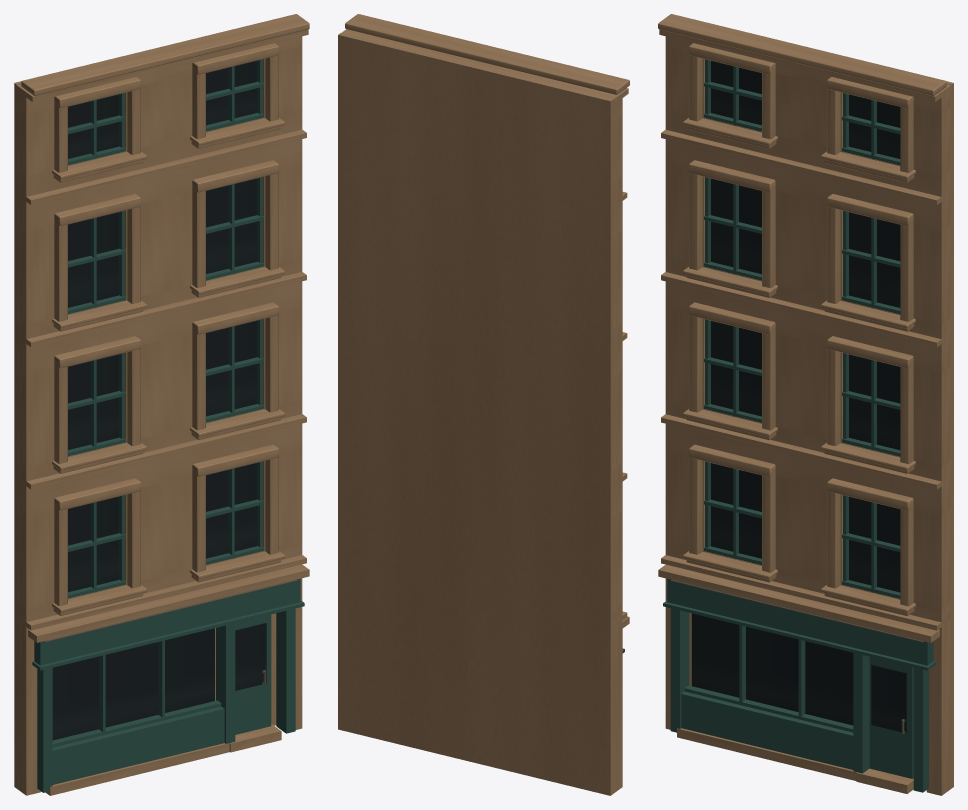
Rendered from glasgow_bay_mid.glb.
3 views of the same model, side by side, from view 1: azimuth 30°, elevation 25°; view 2: azimuth 150°, elevation 25°; view 3: azimuth 330°, elevation 25° (orthographic).
Visible parts, largest first — view 1: GlasgowBay_MID; view 2: GlasgowBay_MID; view 3: GlasgowBay_MID.
Boxes of the visible parts, x1,y1,x2,y2 form: GlasgowBay_MID: [14, 14, 309, 795]; GlasgowBay_MID: [338, 14, 629, 795]; GlasgowBay_MID: [658, 14, 953, 795].
Size of the model in its own units: 6.5 by 16 by 0.86.
Materials: 4 (2 with a texture image).
